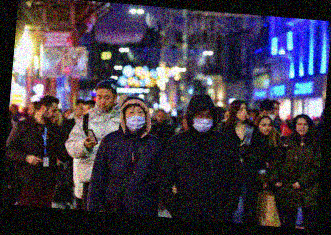with_mask: (124, 106, 147, 131), (191, 109, 214, 132)
without_mask: (94, 91, 113, 110), (42, 105, 58, 123), (235, 104, 248, 122), (258, 119, 273, 134), (295, 119, 309, 135), (156, 110, 166, 122)
